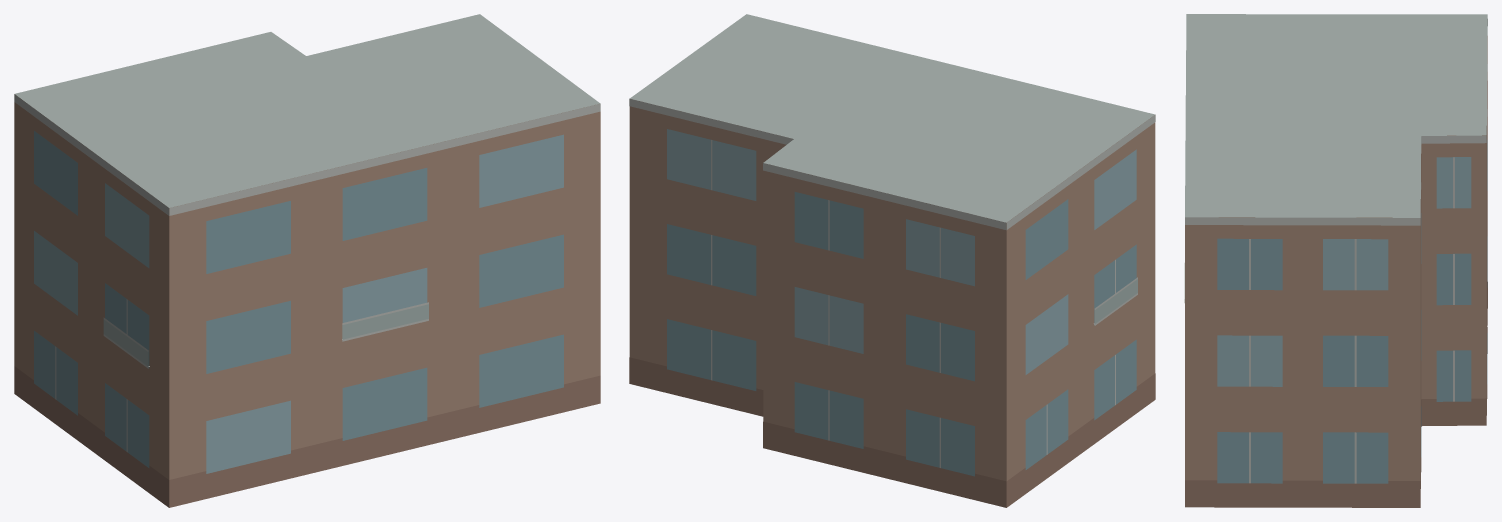
Rendered from survey-upis-33002190.glb.
3 views of the same model, side by side, from view 1: azimuth 30°, elevation 25°; view 2: azimuth 150°, elevation 25°; view 3: azimuth 270°, elevation 25° (orthographic). The views are drawn at different scales.
Parts seen in each view (by area): view 1: survey-upis-33002190.tmp; view 2: survey-upis-33002190.tmp; view 3: survey-upis-33002190.tmp.
Boxes of the visible parts, x1,y1,x2,y2 form: survey-upis-33002190.tmp: (14, 14, 600, 507); survey-upis-33002190.tmp: (629, 14, 1155, 507); survey-upis-33002190.tmp: (1184, 14, 1487, 507).
Size of the model in its own units: 13.83 by 9.15 by 8.69.
